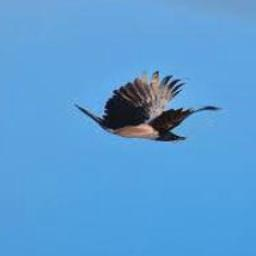Crow: (75, 72, 223, 143)
